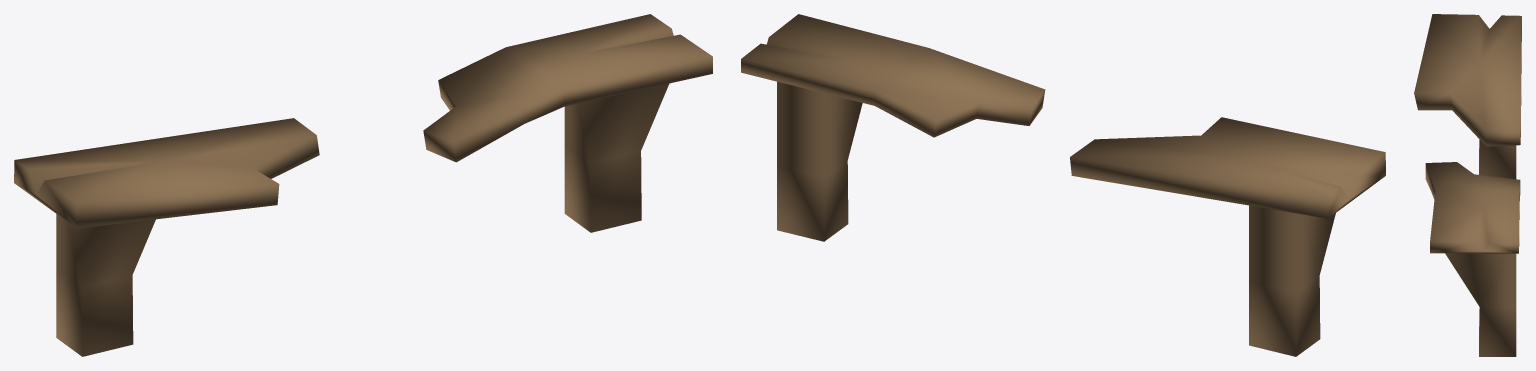
File: rpgpp_av_shelf_wall_01.gltf
The picture shows the model from 3 angles, left to right: view 1: azimuth 30°, elevation 25°; view 2: azimuth 150°, elevation 25°; view 3: azimuth 270°, elevation 25°; orthographic projection. The views are drawn at different scales.
Parts seen in each view (by area): view 1: rpgpp_av_shelf_wall_01; view 2: rpgpp_av_shelf_wall_01; view 3: rpgpp_av_shelf_wall_01.
Boxes of the visible parts, <box> form: rpgpp_av_shelf_wall_01: <box>14,14,712,356</box>; rpgpp_av_shelf_wall_01: <box>741,14,1385,356</box>; rpgpp_av_shelf_wall_01: <box>1414,14,1521,356</box>.
Bounding box in the file's own units: 0.0137 × 0.00386 × 0.00282.
Materials: 1 (1 with a texture image).
